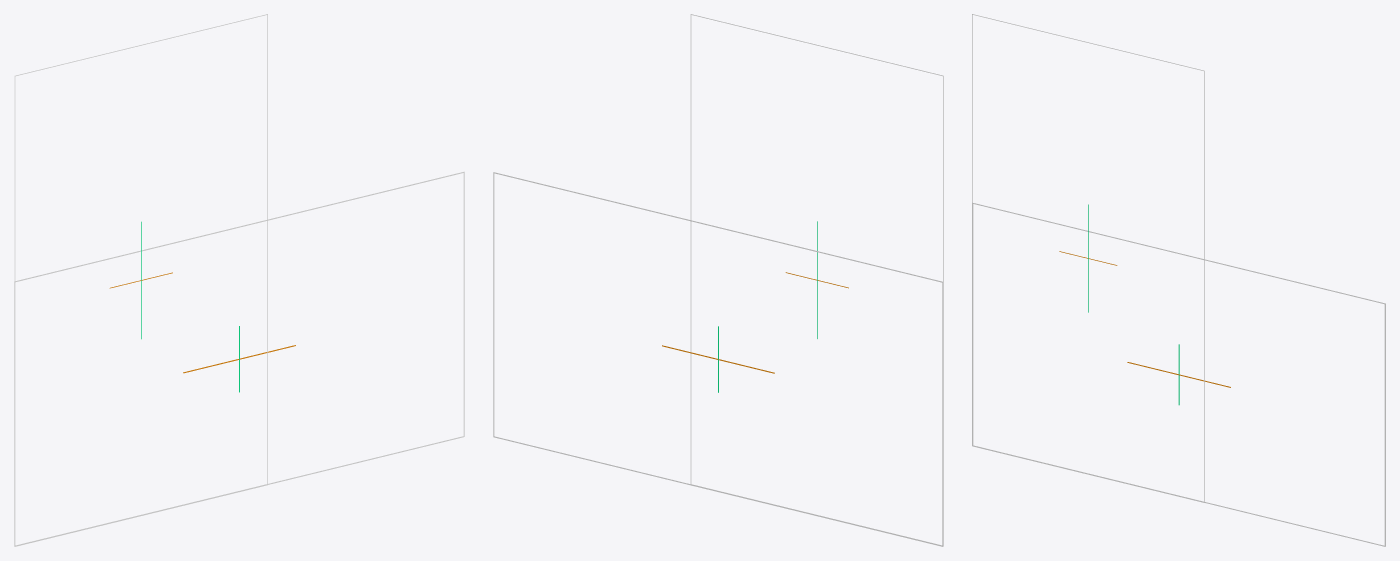
The model's file is reference_bars.glb.
The picture shows the model from 3 angles, left to right: view 1: azimuth 30°, elevation 25°; view 2: azimuth 150°, elevation 25°; view 3: azimuth 330°, elevation 25°; orthographic projection. The views are drawn at different scales.
Size of the model in its own units: 1280 by 1280 by 3.
